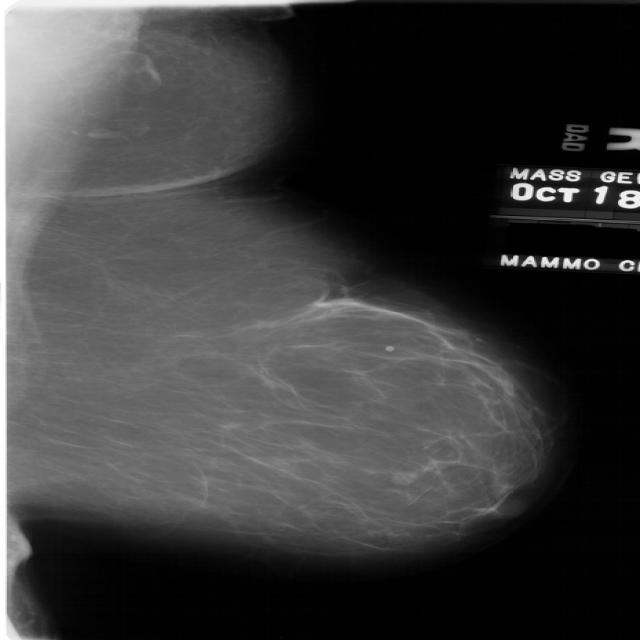tumour: (388, 470, 419, 484)
